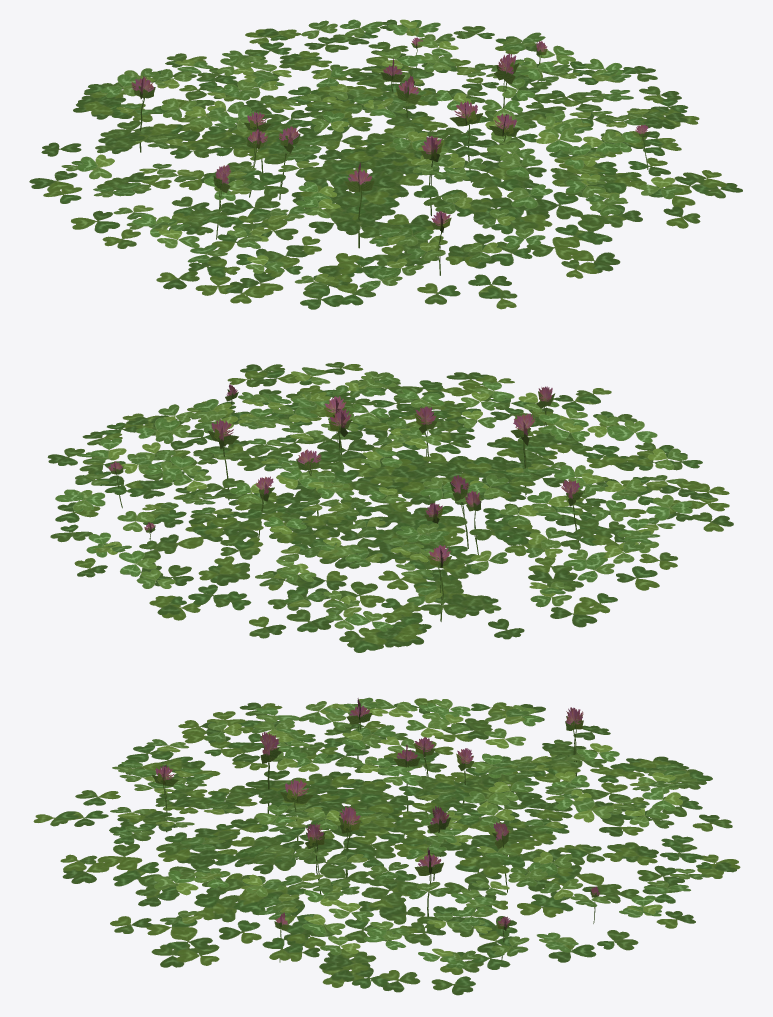
File: clover_a.glb
The picture shows the model from 3 angles, top to bottom: view 1: azimuth 30°, elevation 25°; view 2: azimuth 150°, elevation 25°; view 3: azimuth 270°, elevation 25°; orthographic projection. The views are drawn at different scales.
Parts seen in each view (by area): view 1: clover_a; view 2: clover_a; view 3: clover_a.
Part boxes in pixels (<box>): clover_a: <box>29,19,742,309</box>; clover_a: <box>47,362,733,652</box>; clover_a: <box>33,697,740,995</box>.
Size of the model in its own units: 2.31 by 0.3365 by 2.33.
Materials: 1 (1 with a texture image).
